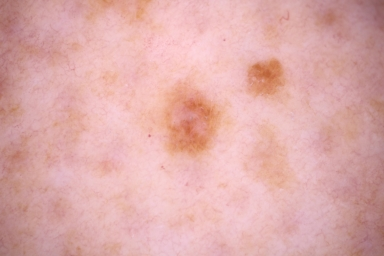nevus: (164, 85, 216, 154), (247, 59, 284, 94)
